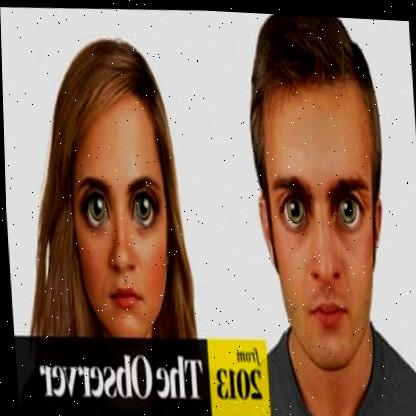person: (241, 12, 416, 416), (8, 20, 209, 344)
